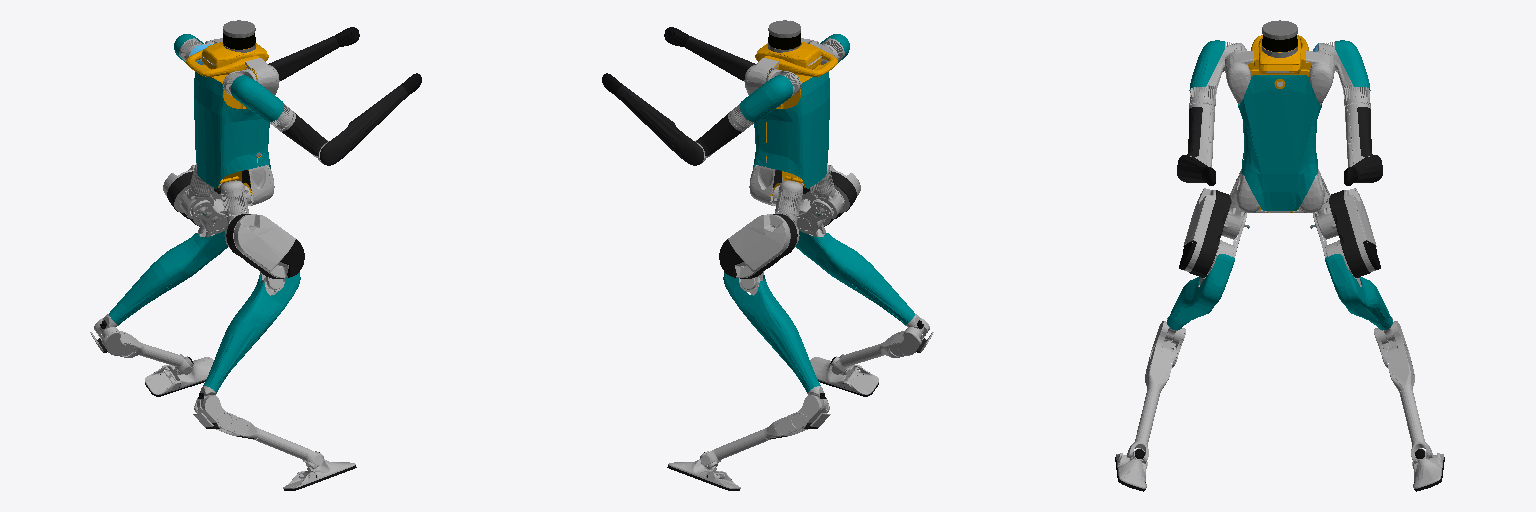
--- Facts derived from the render (not from the file) ---
3 views of the same robot in one strip: view 1: azimuth 30°, elevation 25°; view 2: azimuth 150°, elevation 25°; view 3: azimuth 270°, elevation 25° (orthographic).
Robot: digit — 29 links, 28 joints (22 continuous, 6 fixed); root link torso; default pose: every joint at zero.
Visible links, largest first — view 1: torso, left_shin, right_shin, right_hip_pitch, right_tarsus, right_elbow, right_shoulder_pitch, left_tarsus, left_toe_roll, left_elbow, left_hip_pitch, right_toe_roll (+5 smaller); view 2: torso, right_shin, left_shin, left_hip_pitch, left_tarsus, left_elbow, left_shoulder_pitch, right_tarsus, right_toe_roll, right_elbow, right_hip_pitch, left_toe_roll (+5 smaller); view 3: torso, left_hip_pitch, right_hip_pitch, left_tarsus, right_tarsus, left_shin, right_shin, left_shoulder_pitch, right_shoulder_pitch, left_shoulder_yaw, right_shoulder_yaw, right_shoulder_cap (+9 smaller).
Link boxes in pixels (box(x1,y1,x2,y2)): torso: box(186, 20, 270, 195); left_shin: box(100, 229, 227, 336); right_shin: box(198, 272, 300, 406); right_hip_pitch: box(226, 214, 304, 278); right_tarsus: box(193, 395, 322, 465); right_elbow: box(320, 73, 421, 165); right_shoulder_pitch: box(224, 73, 293, 129); left_tarsus: box(90, 318, 192, 374); left_toe_roll: box(145, 356, 213, 396); left_elbow: box(268, 27, 359, 80); left_hip_pitch: box(163, 165, 226, 231); right_toe_roll: box(283, 451, 356, 490); torso: box(753, 20, 837, 195); right_shin: box(796, 229, 923, 336); left_shin: box(723, 272, 825, 406); left_hip_pitch: box(719, 214, 797, 278); left_tarsus: box(701, 395, 830, 465); left_elbow: box(602, 73, 703, 165); left_shoulder_pitch: box(730, 73, 799, 129); right_tarsus: box(831, 318, 933, 374); right_toe_roll: box(810, 356, 878, 396); right_elbow: box(664, 27, 755, 80); right_hip_pitch: box(797, 165, 860, 231); left_toe_roll: box(667, 451, 740, 490); torso: box(1237, 20, 1322, 212); left_hip_pitch: box(1313, 188, 1380, 277); right_hip_pitch: box(1179, 188, 1246, 277); left_tarsus: box(1374, 321, 1432, 463); right_tarsus: box(1127, 321, 1185, 463); left_shin: box(1325, 254, 1395, 341); right_shin: box(1164, 254, 1234, 341); left_shoulder_pitch: box(1320, 40, 1370, 109); right_shoulder_pitch: box(1189, 40, 1239, 109); left_shoulder_yaw: box(1345, 103, 1372, 167); right_shoulder_yaw: box(1187, 103, 1214, 167); right_shoulder_cap: box(1225, 50, 1253, 104).
Bounding box of the posed robot: 0.8721 × 0.9339 × 1.4 m (x, y, z).
Meshes: 14 distinct files referenced, 29 mesh visuals loaded (14 Collada DAE).

robot.urdf — digit:
<?xml version="1.0" encoding="utf-8"?>
<robot name="digit">
  <link name="torso">
    <inertial>
      <origin rpy="0 0 0" xyz="0.001637 0.0002 0.259547"/>
      <mass value="15.028392"/>
      <inertia ixx="0.376284" ixy="-8.8e-05" ixz="0.008378" iyy="0.342655" iyz="6.7e-05" izz="0.100648"/>
    </inertial>
    <visual>
      <origin rpy="0 0 0" xyz="0 0 0"/>
      <geometry>
        <mesh filename="package://DigitRobotURDF/meshes/torso.dae"/>
      </geometry>
    </visual>
    <collision>
      <origin rpy="0 0 0" xyz="0 0 0"/>
      <geometry>
        <mesh filename="package://DigitRobotURDF/meshes/torso.dae"/>
      </geometry>
    </collision>
  </link>
  <link name="left_hip_roll">
    <inertial>
      <origin rpy="0 0 0" xyz="-0.001967 0.000244 0.031435"/>
      <mass value="0.915088"/>
      <inertia ixx="0.001017" ixy="-3e-06" ixz="1.3e-05" iyy="0.001148" iyz="-4e-06" izz="0.000766"/>
    </inertial>
    <visual>
      <origin rpy="0 0 0" xyz="0 0 0"/>
      <geometry>
        <mesh filename="package://DigitRobotURDF/meshes/hip-yaw-housing.dae"/>
      </geometry>
    </visual>
    <collision>
      <origin rpy="0 0 0" xyz="0 0 0"/>
      <geometry>
        <mesh filename="package://DigitRobotURDF/meshes/hip-yaw-housing.dae"/>
      </geometry>
    </collision>
  </link>
  <link name="left_hip_yaw">
    <inertial>
      <origin rpy="0 0 0" xyz="1e-05 -0.001945 0.042033"/>
      <mass value="0.818753"/>
      <inertia ixx="0.001627" ixy="-1e-06" ixz="2e-06" iyy="0.001929" iyz="5.3e-05" izz="0.00077"/>
    </inertial>
    <visual>
      <origin rpy="0 0 0" xyz="0 0 0"/>
      <geometry>
        <mesh filename="package://DigitRobotURDF/meshes/hip-pitch-housing.dae"/>
      </geometry>
    </visual>
    <collision>
      <origin rpy="0 0 0" xyz="0 0 0"/>
      <geometry>
        <mesh filename="package://DigitRobotURDF/meshes/hip-pitch-housing.dae"/>
      </geometry>
    </collision>
  </link>
  <link name="left_hip_pitch">
    <inertial>
      <origin rpy="0 0 0" xyz="0.060537 0.000521 -0.038857"/>
      <mass value="6.244279"/>
      <inertia ixx="0.011533" ixy="-0.000171" ixz="0.000148" iyy="0.033345" iyz="0.000178" izz="0.033958"/>
    </inertial>
    <visual>
      <origin rpy="0 0 0" xyz="0 0 0"/>
      <geometry>
        <mesh filename="package://DigitRobotURDF/meshes/hip-pitch.dae"/>
      </geometry>
    </visual>
    <collision>
      <origin rpy="0 0 0" xyz="0 0 0"/>
      <geometry>
        <mesh filename="package://DigitRobotURDF/meshes/hip-pitch.dae"/>
      </geometry>
    </collision>
  </link>
  <link name="left_knee">
    <inertial>
      <origin rpy="0 0 0" xyz="0.045641 0.042154 0.001657"/>
      <mass value="1.227077"/>
      <inertia ixx="0.002643" ixy="-0.001832" ixz="6.6e-05" iyy="0.005098" iyz="4.5e-05" izz="0.007019"/>
    </inertial>
    <visual>
      <origin rpy="0 0 0" xyz="0 0 0"/>
      <geometry>
        <mesh filename="package://DigitRobotURDF/meshes/knee.dae"/>
      </geometry>
    </visual>
    <collision>
      <origin rpy="0 0 0" xyz="0 0 0"/>
      <geometry>
        <mesh filename="package://DigitRobotURDF/meshes/knee.dae"/>
      </geometry>
    </collision>
  </link>
  <link name="left_shin">
    <inertial>
      <origin rpy="0 0 0" xyz="0.174265 0.010265 0.00107"/>
      <mass value="0.895793"/>
      <inertia ixx="0.001128" ixy="0.001098" ixz="0.000196" iyy="0.022492" iyz="-3e-06" izz="0.022793"/>
    </inertial>
    <visual>
      <origin rpy="0 0 0" xyz="0 0 0"/>
      <geometry>
        <mesh filename="package://DigitRobotURDF/meshes/shin.dae"/>
      </geometry>
    </visual>
    <collision>
      <origin rpy="0 0 0" xyz="0 0 0"/>
      <geometry>
        <mesh filename="package://DigitRobotURDF/meshes/shin.dae"/>
      </geometry>
    </collision>
  </link>
  <link name="left_tarsus">
    <inertial>
      <origin rpy="0 0 0" xyz="0.000932 -0.029183 0.000678"/>
      <mass value="1.322865"/>
      <inertia ixx="0.000932" ixy="0.00061" ixz="0.000102" iyy="0.016409" iyz="9e-06" izz="0.016501"/>
    </inertial>
    <visual>
      <origin rpy="0 0 0" xyz="0 0 0"/>
      <geometry>
        <mesh filename="package://DigitRobotURDF/meshes/tarsus.dae"/>
      </geometry>
    </visual>
    <collision>
      <origin rpy="0 0 0" xyz="0 0 0"/>
      <geometry>
        <mesh filename="package://DigitRobotURDF/meshes/tarsus.dae"/>
      </geometry>
    </collision>
  </link>
  <link name="left_toe_pitch">
    <inertial>
      <origin rpy="0 0 0" xyz="-0.000141 2e-06 3e-06"/>
      <mass value="0.043881"/>
      <inertia ixx="5e-06" ixy="0" ixz="0" iyy="8e-06" iyz="0" izz="5e-06"/>
    </inertial>
    <visual>
      <origin rpy="0 0 0" xyz="0 0 0"/>
      <geometry>
        <mesh filename="package://DigitRobotURDF/meshes/toe-pitch.dae"/>
      </geometry>
    </visual>
    <collision>
      <origin rpy="0 0 0" xyz="0 0 0"/>
      <geometry>
        <mesh filename="package://DigitRobotURDF/meshes/toe-pitch.dae"/>
      </geometry>
    </collision>
  </link>
  <link name="left_toe_roll">
    <inertial>
      <origin rpy="0 0 0" xyz="9e-06 -0.028084 -0.023204"/>
      <mass value="0.531283"/>
      <inertia ixx="0.00187" ixy="0" ixz="0" iyy="0.001616" iyz="0.000566" izz="0.000843"/>
    </inertial>
    <visual>
      <origin rpy="0 0 0" xyz="0 0 0"/>
      <geometry>
        <mesh filename="package://DigitRobotURDF/meshes/toe-roll.dae"/>
      </geometry>
    </visual>
    <collision>
      <origin rpy="0 0 0" xyz="0 0 0"/>
      <geometry>
        <mesh filename="package://DigitRobotURDF/meshes/toe-roll.dae"/>
      </geometry>
    </collision>
  </link>
  <link name="left_shoulder_roll">
    <inertial>
      <origin rpy="0 0 0" xyz="9e-06 -0.003158 0.023405"/>
      <mass value="0.535396"/>
      <inertia ixx="0.000704" ixy="1.4e-05" ixz="1.2e-05" iyy="0.00075" iyz="3.5e-05" izz="0.000298"/>
    </inertial>
    <visual>
      <origin rpy="0 0 0" xyz="0 0 0"/>
      <geometry>
        <mesh filename="package://DigitRobotURDF/meshes/arm-L1.dae"/>
      </geometry>
    </visual>
    <collision>
      <origin rpy="0 0 0" xyz="0 0 0"/>
      <geometry>
        <mesh filename="package://DigitRobotURDF/meshes/arm-L1.dae"/>
      </geometry>
    </collision>
  </link>
  <link name="left_shoulder_cap">
    <inertial>
      <origin rpy="0 0 0" xyz="9e-06 -0.003158 0.023405"/>
      <mass value="0.535396"/>
      <inertia ixx="0.000704" ixy="1.4e-05" ixz="1.2e-05" iyy="0.00075" iyz="3.5e-05" izz="0.000298"/>
    </inertial>
    <visual>
      <origin rpy="0 0 0" xyz="0 0 0"/>
      <geometry>
        <mesh filename="package://DigitRobotURDF/meshes/shoulder-roll-housing.dae"/>
      </geometry>
    </visual>
    <collision>
      <origin rpy="0 0 0" xyz="0 0 0"/>
      <geometry>
        <mesh filename="package://DigitRobotURDF/meshes/shoulder-roll-housing.dae"/>
      </geometry>
    </collision>
  </link>
  <link name="left_waist_cap">
    <inertial>
      <origin rpy="0 0 0" xyz="9e-06 -0.003158 0.023405"/>
      <mass value="0.535396"/>
      <inertia ixx="0.000704" ixy="1.4e-05" ixz="1.2e-05" iyy="0.00075" iyz="3.5e-05" izz="0.000298"/>
    </inertial>
    <visual>
      <origin rpy="0 0 0" xyz="0 0 0"/>
      <geometry>
        <mesh filename="package://DigitRobotURDF/meshes/shoulder-roll-housing.dae"/>
      </geometry>
    </visual>
    <collision>
      <origin rpy="0 0 0" xyz="0 0 0"/>
      <geometry>
        <mesh filename="package://DigitRobotURDF/meshes/shoulder-roll-housing.dae"/>
      </geometry>
    </collision>
  </link>
  <link name="left_shoulder_pitch">
    <inertial>
      <origin rpy="0 0 0" xyz="-4.2e-05 -0.061882 -0.073788"/>
      <mass value="1.440357"/>
      <inertia ixx="0.006761" ixy="-6e-06" ixz="-3e-06" iyy="0.002087" iyz="-0.002046" izz="0.005778"/>
    </inertial>
    <visual>
      <origin rpy="0 0 0" xyz="0 0 0"/>
      <geometry>
        <mesh filename="package://DigitRobotURDF/meshes/arm-L2.dae"/>
      </geometry>
    </visual>
    <collision>
      <origin rpy="0 0 0" xyz="0 0 0"/>
      <geometry>
        <mesh filename="package://DigitRobotURDF/meshes/arm-L2.dae"/>
      </geometry>
    </collision>
  </link>
  <link name="left_shoulder_yaw">
    <inertial>
      <origin rpy="0 0 0" xyz="-3e-05 -0.001937 0.11407"/>
      <mass value="1.065387"/>
      <inertia ixx="0.006967" ixy="1e-06" ixz="-1e-06" iyy="0.007003" iyz="1.5e-05" izz="0.000673"/>
    </inertial>
    <visual>
      <origin rpy="0 0 0" xyz="0 0 0"/>
      <geometry>
        <mesh filename="package://DigitRobotURDF/meshes/arm-L3.dae"/>
      </geometry>
    </visual>
    <collision>
      <origin rpy="0 0 0" xyz="0 0 0"/>
      <geometry>
        <mesh filename="package://DigitRobotURDF/meshes/arm-L3.dae"/>
      </geometry>
    </collision>
  </link>
  <link name="left_elbow">
    <inertial>
      <origin rpy="0 0 0" xyz="0.107996 -0.000521 -0.017765"/>
      <mass value="0.550582"/>
      <inertia ixx="0.000476" ixy="-2.9e-05" ixz="0.001403" iyy="0.009564" iyz="9e-06" izz="0.009437"/>
    </inertial>
    <visual>
      <origin rpy="0 0 0" xyz="0 0 0"/>
      <geometry>
        <mesh filename="package://DigitRobotURDF/meshes/arm-L4.dae"/>
      </geometry>
    </visual>
    <collision>
      <origin rpy="0 0 0" xyz="0 0 0"/>
      <geometry>
        <mesh filename="package://DigitRobotURDF/meshes/arm-L4.dae"/>
      </geometry>
    </collision>
  </link>
  <link name="right_hip_roll">
    <inertial>
      <origin rpy="0 0 0" xyz="-0.001967 -0.000244 0.031435"/>
      <mass value="0.915088"/>
      <inertia ixx="0.001017" ixy="3e-06" ixz="1.3e-05" iyy="0.001148" iyz="4e-06" izz="0.000766"/>
    </inertial>
    <visual>
      <origin rpy="0 0 0" xyz="0 0 0"/>
      <geometry>
        <mesh filename="package://DigitRobotURDF/meshes/hip-yaw-housing.dae" scale="1 -1 1"/>
      </geometry>
    </visual>
    <collision>
      <origin rpy="0 0 0" xyz="0 0 0"/>
      <geometry>
        <mesh filename="package://DigitRobotURDF/meshes/hip-yaw-housing.dae" scale="1 -1 1"/>
      </geometry>
    </collision>
  </link>
  <link name="right_hip_yaw">
    <inertial>
      <origin rpy="0 0 0" xyz="1e-05 0.001945 0.042033"/>
      <mass value="0.818753"/>
      <inertia ixx="0.001627" ixy="1e-06" ixz="2e-06" iyy="0.001929" iyz="-5.3e-05" izz="0.00077"/>
    </inertial>
    <visual>
      <origin rpy="0 0 0" xyz="0 0 0"/>
      <geometry>
        <mesh filename="package://DigitRobotURDF/meshes/hip-pitch-housing.dae" scale="1 -1 1"/>
      </geometry>
    </visual>
    <collision>
      <origin rpy="0 0 0" xyz="0 0 0"/>
      <geometry>
        <mesh filename="package://DigitRobotURDF/meshes/hip-pitch-housing.dae" scale="1 -1 1"/>
      </geometry>
    </collision>
  </link>
  <link name="right_hip_pitch">
    <inertial>
      <origin rpy="0 0 0" xyz="0.060537 -0.000521 -0.038857"/>
      <mass value="6.244279"/>
      <inertia ixx="0.011533" ixy="0.000171" ixz="0.000148" iyy="0.033345" iyz="-0.000178" izz="0.033958"/>
    </inertial>
    <visual>
      <origin rpy="0 0 0" xyz="0 0 0"/>
      <geometry>
        <mesh filename="package://DigitRobotURDF/meshes/hip-pitch.dae" scale="1 -1 1"/>
      </geometry>
    </visual>
    <collision>
      <origin rpy="0 0 0" xyz="0 0 0"/>
      <geometry>
        <mesh filename="package://DigitRobotURDF/meshes/hip-pitch.dae" scale="1 -1 1"/>
      </geometry>
    </collision>
  </link>
  <link name="right_knee">
    <inertial>
      <origin rpy="0 0 0" xyz="0.045641 -0.042154 0.001657"/>
      <mass value="1.227077"/>
      <inertia ixx="0.002643" ixy="0.001832" ixz="6.6e-05" iyy="0.005098" iyz="-4.5e-05" izz="0.007019"/>
    </inertial>
    <visual>
      <origin rpy="0 0 0" xyz="0 0 0"/>
      <geometry>
        <mesh filename="package://DigitRobotURDF/meshes/knee.dae" scale="1 -1 1"/>
      </geometry>
    </visual>
    <collision>
      <origin rpy="0 0 0" xyz="0 0 0"/>
      <geometry>
        <mesh filename="package://DigitRobotURDF/meshes/knee.dae" scale="1 -1 1"/>
      </geometry>
    </collision>
  </link>
  <link name="right_shin">
    <inertial>
      <origin rpy="0 0 0" xyz="0.174265 -0.010265 0.00107"/>
      <mass value="0.895793"/>
      <inertia ixx="0.001128" ixy="-0.001098" ixz="0.000196" iyy="0.022492" iyz="3e-06" izz="0.022793"/>
    </inertial>
    <visual>
      <origin rpy="0 0 0" xyz="0 0 0"/>
      <geometry>
        <mesh filename="package://DigitRobotURDF/meshes/shin.dae" scale="1 -1 1"/>
      </geometry>
    </visual>
    <collision>
      <origin rpy="0 0 0" xyz="0 0 0"/>
      <geometry>
        <mesh filename="package://DigitRobotURDF/meshes/shin.dae" scale="1 -1 1"/>
      </geometry>
    </collision>
  </link>
  <link name="right_tarsus">
    <inertial>
      <origin rpy="0 0 0" xyz="0.000932 0.029183 0.000678"/>
      <mass value="1.322865"/>
      <inertia ixx="0.000932" ixy="-0.00061" ixz="0.000102" iyy="0.016409" iyz="-9e-06" izz="0.016501"/>
    </inertial>
    <visual>
      <origin rpy="0 0 0" xyz="0 0 0"/>
      <geometry>
        <mesh filename="package://DigitRobotURDF/meshes/tarsus.dae" scale="1 -1 1"/>
      </geometry>
    </visual>
    <collision>
      <origin rpy="0 0 0" xyz="0 0 0"/>
      <geometry>
        <mesh filename="package://DigitRobotURDF/meshes/tarsus.dae" scale="1 -1 1"/>
      </geometry>
    </collision>
  </link>
  <link name="right_toe_pitch">
    <inertial>
      <origin rpy="0 0 0" xyz="-0.000141 -2e-06 3e-06"/>
      <mass value="0.043881"/>
      <inertia ixx="5e-06" ixy="0" ixz="0" iyy="8e-06" iyz="0" izz="5e-06"/>
    </inertial>
    <visual>
      <origin rpy="0 0 0" xyz="0 0 0"/>
      <geometry>
        <mesh filename="package://DigitRobotURDF/meshes/toe-pitch.dae" scale="1 -1 1"/>
      </geometry>
    </visual>
    <collision>
      <origin rpy="0 0 0" xyz="0 0 0"/>
      <geometry>
        <mesh filename="package://DigitRobotURDF/meshes/toe-pitch.dae" scale="1 -1 1"/>
      </geometry>
    </collision>
  </link>
  <link name="right_toe_roll">
    <inertial>
      <origin rpy="0 0 0" xyz="9e-06 0.028084 -0.023204"/>
      <mass value="0.531283"/>
      <inertia ixx="0.00187" ixy="0" ixz="0" iyy="0.001616" iyz="-0.000566" izz="0.000843"/>
    </inertial>
    <visual>
      <origin rpy="0 0 0" xyz="0 0 0"/>
      <geometry>
        <mesh filename="package://DigitRobotURDF/meshes/toe-roll.dae" scale="1 -1 1"/>
      </geometry>
    </visual>
    <collision>
      <origin rpy="0 0 0" xyz="0 0 0"/>
      <geometry>
        <mesh filename="package://DigitRobotURDF/meshes/toe-roll.dae" scale="1 -1 1"/>
      </geometry>
    </collision>
  </link>
  <link name="right_shoulder_roll">
    <inertial>
      <origin rpy="0 0 0" xyz="9e-06 0.003158 0.023405"/>
      <mass value="0.535396"/>
      <inertia ixx="0.000704" ixy="-1.4e-05" ixz="1.2e-05" iyy="0.00075" iyz="-3.5e-05" izz="0.000298"/>
    </inertial>
    <visual>
      <origin rpy="0 0 0" xyz="0 0 0"/>
      <geometry>
        <mesh filename="package://DigitRobotURDF/meshes/arm-L1.dae" scale="1 -1 1"/>
      </geometry>
    </visual>
    <collision>
      <origin rpy="0 0 0" xyz="0 0 0"/>
      <geometry>
        <mesh filename="package://DigitRobotURDF/meshes/arm-L1.dae" scale="1 -1 1"/>
      </geometry>
    </collision>
  </link>
  <link name="right_shoulder_cap">
    <inertial>
      <origin rpy="0 0 0" xyz="9e-06 0.003158 0.023405"/>
      <mass value="0.535396"/>
      <inertia ixx="0.000704" ixy="-1.4e-05" ixz="1.2e-05" iyy="0.00075" iyz="-3.5e-05" izz="0.000298"/>
    </inertial>
    <visual>
      <origin rpy="0 0 0" xyz="0 0 0"/>
      <geometry>
        <mesh filename="package://DigitRobotURDF/meshes/shoulder-roll-housing.dae" scale="1 -1 1"/>
      </geometry>
    </visual>
    <collision>
      <origin rpy="0 0 0" xyz="0 0 0"/>
      <geometry>
        <mesh filename="package://DigitRobotURDF/meshes/shoulder-roll-housing.dae" scale="1 -1 1"/>
      </geometry>
    </collision>
  </link>
  <link name="right_waist_cap">
    <inertial>
      <origin rpy="0 0 0" xyz="9e-06 0.003158 0.023405"/>
      <mass value="0.535396"/>
      <inertia ixx="0.000704" ixy="-1.4e-05" ixz="1.2e-05" iyy="0.00075" iyz="-3.5e-05" izz="0.000298"/>
    </inertial>
    <visual>
      <origin rpy="0 0 0" xyz="0 0 0"/>
      <geometry>
        <mesh filename="package://DigitRobotURDF/meshes/shoulder-roll-housing.dae" scale="1 -1 1"/>
      </geometry>
    </visual>
    <collision>
      <origin rpy="0 0 0" xyz="0 0 0"/>
      <geometry>
        <mesh filename="package://DigitRobotURDF/meshes/shoulder-roll-housing.dae" scale="1 -1 1"/>
      </geometry>
    </collision>
  </link>
  <link name="right_shoulder_pitch">
    <inertial>
      <origin rpy="0 0 0" xyz="-4.2e-05 0.061882 -0.073788"/>
      <mass value="1.440357"/>
      <inertia ixx="0.006761" ixy="6e-06" ixz="-3e-06" iyy="0.002087" iyz="0.002046" izz="0.005778"/>
    </inertial>
    <visual>
      <origin rpy="0 0 0" xyz="0 0 0"/>
      <geometry>
        <mesh filename="package://DigitRobotURDF/meshes/arm-L2.dae" scale="1 -1 1"/>
      </geometry>
    </visual>
    <collision>
      <origin rpy="0 0 0" xyz="0 0 0"/>
      <geometry>
        <mesh filename="package://DigitRobotURDF/meshes/arm-L2.dae" scale="1 -1 1"/>
      </geometry>
    </collision>
  </link>
  <link name="right_shoulder_yaw">
    <inertial>
      <origin rpy="0 0 0" xyz="-3e-05 0.001937 0.11407"/>
      <mass value="1.065387"/>
      <inertia ixx="0.006967" ixy="-1e-06" ixz="-1e-06" iyy="0.007003" iyz="-1.5e-05" izz="0.000673"/>
    </inertial>
    <visual>
      <origin rpy="0 0 0" xyz="0 0 0"/>
      <geometry>
        <mesh filename="package://DigitRobotURDF/meshes/arm-L3.dae" scale="1 -1 1"/>
      </geometry>
    </visual>
    <collision>
      <origin rpy="0 0 0" xyz="0 0 0"/>
      <geometry>
        <mesh filename="package://DigitRobotURDF/meshes/arm-L3.dae" scale="1 -1 1"/>
      </geometry>
    </collision>
  </link>
  <link name="right_elbow">
    <inertial>
      <origin rpy="0 0 0" xyz="0.107996 0.000521 -0.017765"/>
      <mass value="0.550582"/>
      <inertia ixx="0.000476" ixy="2.9e-05" ixz="0.001403" iyy="0.009564" iyz="-9e-06" izz="0.009437"/>
    </inertial>
    <visual>
      <origin rpy="0 0 0" xyz="0 0 0"/>
      <geometry>
        <mesh filename="package://DigitRobotURDF/meshes/arm-L4.dae" scale="1 -1 1"/>
      </geometry>
    </visual>
    <collision>
      <origin rpy="0 0 0" xyz="0 0 0"/>
      <geometry>
        <mesh filename="package://DigitRobotURDF/meshes/arm-L4.dae" scale="1 -1 1"/>
      </geometry>
    </collision>
  </link>
  <joint name="hip_abduction_left" type="continuous">
    <origin rpy="1.57079632679 -1.1955506 -1.57079632679" xyz="-0.001 0.091 0"/>
    <axis xyz="0 0 1"/>
    <parent link="torso"/>
    <child link="left_hip_roll"/>
    <limit effort="1.4" lower="-1.0472" upper="1.0472" velocity="12.15"/>
  </joint>
  <joint name="hip_rotation_left" type="continuous">
    <origin rpy="0 -1.57079632679 0" xyz="-0.0505 0 0.044"/>
    <axis xyz="0 0 1"/>
    <parent link="left_hip_roll"/>
    <child link="left_hip_yaw"/>
    <limit effort="1.4" lower="-0.698132" upper="0.698132" velocity="12.15"/>
  </joint>
  <joint name="hip_flexion_left" type="continuous">
    <origin rpy="-1.57079632679 -0.785398163397 3.14159265359" xyz="0 0.004 0.068"/>
    <axis xyz="0 0 -1"/>
    <parent link="left_hip_yaw"/>
    <child link="left_hip_pitch"/>
    <limit effort="12.5" lower="-1.0472" upper="1.57079632679" velocity="8.5"/>
  </joint>
  <joint name="knee_joint_left" type="continuous">
    <origin rpy="0 0 -1.57079632679" xyz="0.12 0 0.0045"/>
    <axis xyz="0 0 1"/>
    <parent link="left_hip_pitch"/>
    <child link="left_knee"/>
    <limit effort="12.5" lower="-1.2392" upper="0.8727" velocity="8.5085"/>
  </joint>
  <joint name="knee_to_shin_left" type="fixed">
    <origin rpy="0 0 0" xyz="0.060677 0.047406 0"/>
    <axis xyz="0 0 1"/>
    <parent link="left_knee"/>
    <child link="left_shin"/>
    <limit effort="0" lower="-0.35" upper="0.35" velocity="10"/>
  </joint>
  <joint name="shin_to_tarsus_left" type="continuous">
    <origin rpy="0 0 1.7976891" xyz="0.434759 0.02 0"/>
    <axis xyz="0 0 1"/>
    <parent link="left_shin"/>
    <child link="left_tarsus"/>
    <limit effort="0" lower="-0.8779" upper="1.2497" velocity="20"/>
  </joint>
  <joint name="toe_pitch_joint_left" type="continuous">
    <origin rpy="0 0 1.1956" xyz="0.408 -0.04 0"/>
    <axis xyz="0 0 1"/>
    <parent link="left_tarsus"/>
    <child link="left_toe_pitch"/>
    <limit effort="0.9" lower="-0.785398163397" upper="0.785398163397" velocity="11.5"/>
  </joint>
  <joint name="toe_roll_joint_left" type="continuous">
    <origin rpy="0 1.57079632679 0" xyz="0 0 0"/>
    <axis xyz="0 0 1"/>
    <parent link="left_toe_pitch"/>
    <child link="left_toe_roll"/>
    <limit effort="0.9" lower="-0.6109" upper="0.6109" velocity="11.5"/>
  </joint>
  <joint name="shoulder_roll_joint_left" type="continuous">
    <origin rpy="-1.57079632679 -1.3962633 1.57079632679" xyz="-0.001 0.12 0.4"/>
    <axis xyz="0 0 1"/>
    <parent link="torso"/>
    <child link="left_shoulder_roll"/>
    <limit effort="1.4" lower="-1.309" upper="1.309" velocity="12.5"/>
  </joint>
  <joint name="shoulder_roll_cap_left" type="fixed">
    <origin rpy="-1.57079632679 -1.3962633 1.57079632679" xyz="0.001 0.12 0.4"/>
    <axis xyz="0 0 1"/>
    <parent link="torso"/>
    <child link="left_shoulder_cap"/>
    <limit effort="1.4" lower="-1.309" upper="1.309" velocity="12.5"/>
  </joint>
  <joint name="shoulder_pitch_joint_left" type="continuous">
    <origin rpy="1.57079632679 0.785398163397 -0.2792527" xyz="-0.00317 -0.011055 0.0555"/>
    <axis xyz="0 0 -1"/>
    <parent link="left_shoulder_roll"/>
    <child link="left_shoulder_pitch"/>
    <limit effort="1.4" lower="-2.5307" upper="2.5307" velocity="12.5"/>
  </joint>
  <joint name="shoulder_yaw_joint_left" type="continuous">
    <origin rpy="1.57079632679 0 0" xyz="0 -0.165 -0.1"/>
    <axis xyz="0 0 1"/>
    <parent link="left_shoulder_pitch"/>
    <child link="left_shoulder_yaw"/>
    <limit effort="1.4" lower="-1.7453" upper="1.7453" velocity="10"/>
  </joint>
  <joint name="elbow_joint_left" type="continuous">
    <origin rpy="1.57079632679 -0.3926991 0" xyz="0 -0.0385 0.185"/>
    <axis xyz="0 0 1"/>
    <parent link="left_shoulder_yaw"/>
    <child link="left_elbow"/>
    <limit effort="1.4" lower="-1.3526" upper="1.3526" velocity="12.5"/>
  </joint>
  <joint name="hip_abduction_right" type="continuous">
    <origin rpy="-1.57079632679 -1.1955506 1.57079632679" xyz="-0.001 -0.091 0"/>
    <axis xyz="0 0 1"/>
    <parent link="torso"/>
    <child link="right_hip_roll"/>
    <limit effort="1.4" lower="-1.0472" upper="1.0472" velocity="12.15"/>
  </joint>
  <joint name="hip_rotation_right" type="continuous">
    <origin rpy="0 -1.57079632679 0" xyz="-0.0505 0 0.044"/>
    <axis xyz="0 0 1"/>
    <parent link="right_hip_roll"/>
    <child link="right_hip_yaw"/>
    <limit effort="1.4" lower="-0.698132" upper="0.698132" velocity="12.15"/>
  </joint>
  <joint name="hip_flexion_right" type="continuous">
    <origin rpy="1.57079632679 -0.785398163397 -3.14159265359" xyz="0 -0.004 0.068"/>
    <axis xyz="0 0 -1"/>
    <parent link="right_hip_yaw"/>
    <child link="right_hip_pitch"/>
    <limit effort="12.5" lower="-1.57079632679" upper="1.0472" velocity="8.5"/>
  </joint>
  <joint name="knee_joint_right" type="continuous">
    <origin rpy="0 0 1.57079632679" xyz="0.12 0 0.0045"/>
    <axis xyz="0 0 1"/>
    <parent link="right_hip_pitch"/>
    <child link="right_knee"/>
    <limit effort="12.5" lower="-0.8727" upper="1.2392" velocity="8.5085"/>
  </joint>
  <joint name="knee_to_shin_right" type="fixed">
    <origin rpy="0 0 0" xyz="0.060677 -0.047406 0"/>
    <axis xyz="0 0 1"/>
    <parent link="right_knee"/>
    <child link="right_shin"/>
    <limit effort="0" lower="-0.35" upper="0.35" velocity="10"/>
  </joint>
  <joint name="shin_to_tarsus_right" type="continuous">
    <origin rpy="0 0 -1.7976891" xyz="0.434759 -0.02 0"/>
    <axis xyz="0 0 1"/>
    <parent link="right_shin"/>
    <child link="right_tarsus"/>
    <limit effort="0" lower="-1.2497" upper="0.8779" velocity="20"/>
  </joint>
  <joint name="toe_pitch_joint_right" type="continuous">
    <origin rpy="0 0 -1.1956" xyz="0.408 0.04 0"/>
    <axis xyz="0 0 1"/>
    <parent link="right_tarsus"/>
    <child link="right_toe_pitch"/>
    <limit effort="0.9" lower="-0.785398163397" upper="0.785398163397" velocity="11.5"/>
  </joint>
  <joint name="toe_roll_joint_right" type="continuous">
    <origin rpy="0 1.57079632679 0" xyz="0 0 0"/>
    <axis xyz="0 0 1"/>
    <parent link="right_toe_pitch"/>
    <child link="right_toe_roll"/>
    <limit effort="0.9" lower="-0.6109" upper="0.6109" velocity="11.5"/>
  </joint>
  <joint name="shoulder_roll_joint_right" type="continuous">
    <origin rpy="1.57079632679 -1.3962633 -1.57079632679" xyz="-0.001 -0.12 0.4"/>
    <axis xyz="0 0 1"/>
    <parent link="torso"/>
    <child link="right_shoulder_roll"/>
    <limit effort="1.4" lower="-1.309" upper="1.309" velocity="12.5"/>
  </joint>
  <joint name="shoulder_cap_joint_right" type="fixed">
    <origin rpy="1.57079632679 -1.3962633 -1.57079632679" xyz="0.001 -0.12 0.4"/>
    <axis xyz="0 0 1"/>
    <parent link="torso"/>
    <child link="right_shoulder_cap"/>
    <limit effort="1.4" lower="-1.309" upper="1.309" velocity="12.5"/>
  </joint>

  <joint name="waist_cap_joint_right" type="fixed">
    <origin rpy="1.57079632679 1.57 -1.57079632679" xyz="-0.001 -0.09 0.0"/>
    <axis xyz="0 0 1"/>
    <parent link="torso"/>
    <child link="left_waist_cap"/>
    <limit effort="1.4" lower="-1.309" upper="1.309" velocity="12.5"/>
  </joint>

  <joint name="waist_cap_joint_left" type="fixed">
    <origin rpy="-1.57079632679 1.57 1.57079632679" xyz="-0.001 0.09 0.0"/>
    <axis xyz="0 0 1"/>
    <parent link="torso"/>
    <child link="right_waist_cap"/>
    <limit effort="1.4" lower="-1.309" upper="1.309" velocity="12.5"/>
  </joint>

  <joint name="shoulder_pitch_joint_right" type="continuous">
    <origin rpy="-1.57079632679 0.785398163397 0.2792527" xyz="-0.00317 0.011055 0.0555"/>
    <axis xyz="0 0 -1"/>
    <parent link="right_shoulder_roll"/>
    <child link="right_shoulder_pitch"/>
    <limit effort="1.4" lower="-2.5307" upper="2.5307" velocity="12.5"/>
  </joint>
  <joint name="shoulder_yaw_joint_right" type="continuous">
    <origin rpy="-1.57079632679 0 0" xyz="0 0.165 -0.1"/>
    <axis xyz="0 0 1"/>
    <parent link="right_shoulder_pitch"/>
    <child link="right_shoulder_yaw"/>
    <limit effort="1.4" lower="-1.7453" upper="1.7453" velocity="10"/>
  </joint>
  <joint name="elbow_joint_right" type="continuous">
    <origin rpy="-1.57079632679 -0.3926991 0" xyz="0 0.0385 0.185"/>
    <axis xyz="0 0 1"/>
    <parent link="right_shoulder_yaw"/>
    <child link="right_elbow"/>
    <limit effort="1.4" lower="-1.3526" upper="1.3526" velocity="12.5"/>
  </joint>

</robot>
